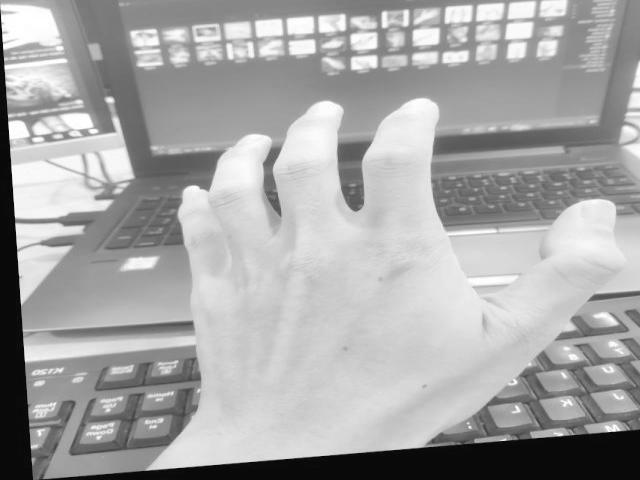not-gloved: (178, 105, 622, 455)
